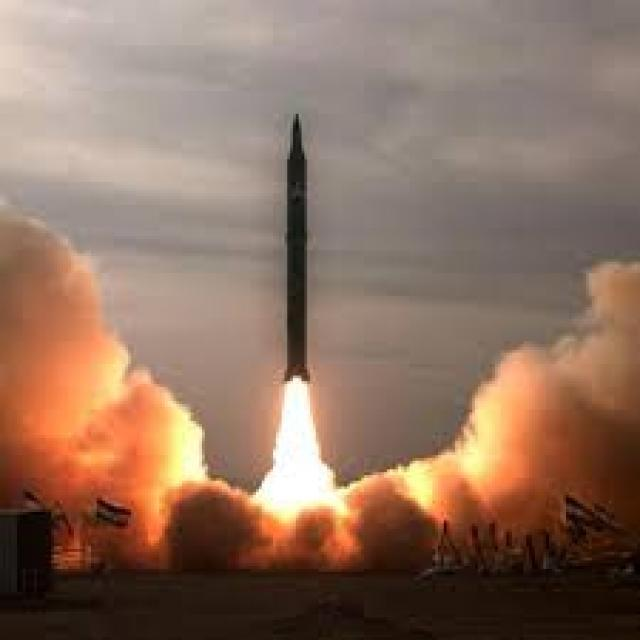Missile: (278, 105, 322, 405)
